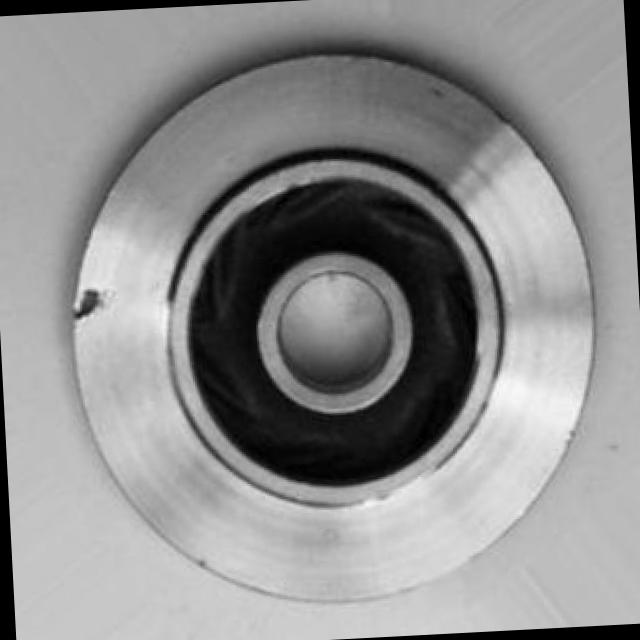Defect: (72, 288, 110, 322)
